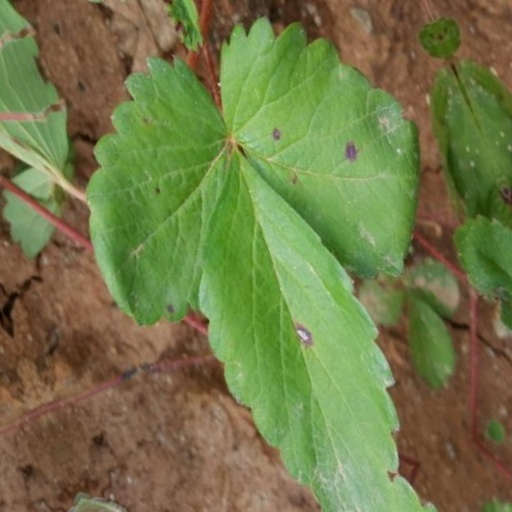Leaf Spot: (178, 139, 340, 511), (280, 34, 456, 332), (106, 29, 280, 286), (332, 320, 383, 374)
